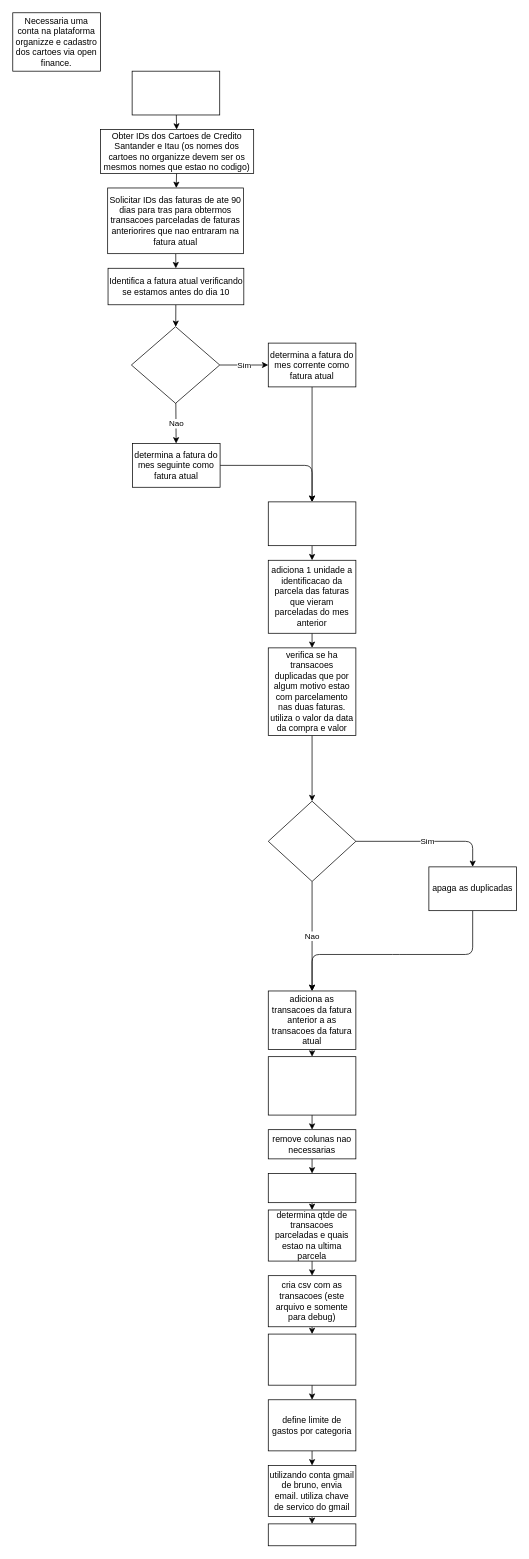
Image size: 529x1559. Some labels were removed from this diagram. The box of each missing label's shape, as (x1, y1, x2, y2) in pixels:
agrupa categorias para envio de email: (268, 1333, 356, 1385)
ajusta formatacao do dataframe: (268, 1173, 356, 1203)
busca transacoes parceladas da fatura anterior: (268, 501, 356, 546)
concatena as transacoes dos dois cartoes em um dataframe somente: (268, 1056, 356, 1115)
data menor ou igual ao dia 10?: (131, 326, 220, 403)
FIM: (268, 1523, 356, 1546)
ha transacoes duplicadas?: (268, 800, 356, 881)
Obter TOKEN Organizze: (131, 70, 220, 115)
